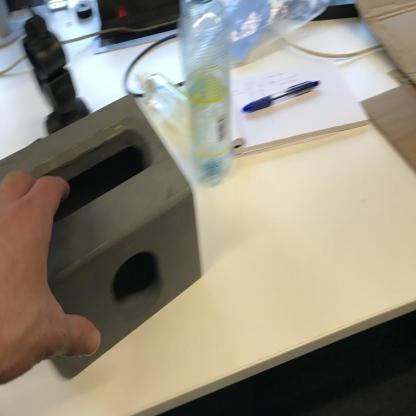CornerCasting: (0, 87, 200, 374)
